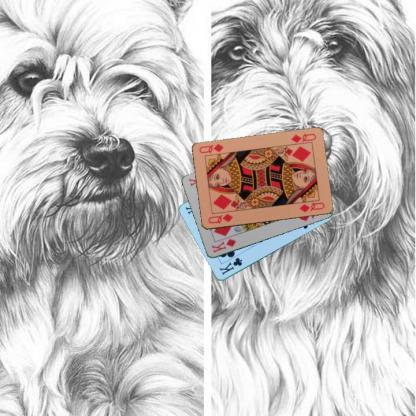Kc: (217, 255, 243, 276)
Kd: (209, 236, 237, 254)
Qd: (287, 131, 317, 147), (206, 211, 234, 225)
